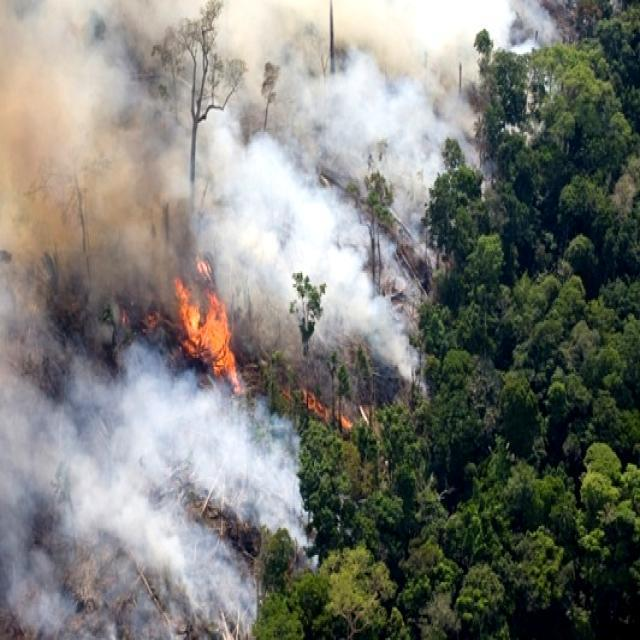Fire: (174, 260, 258, 396)
Smoke: (0, 0, 450, 386), (0, 374, 326, 640)
